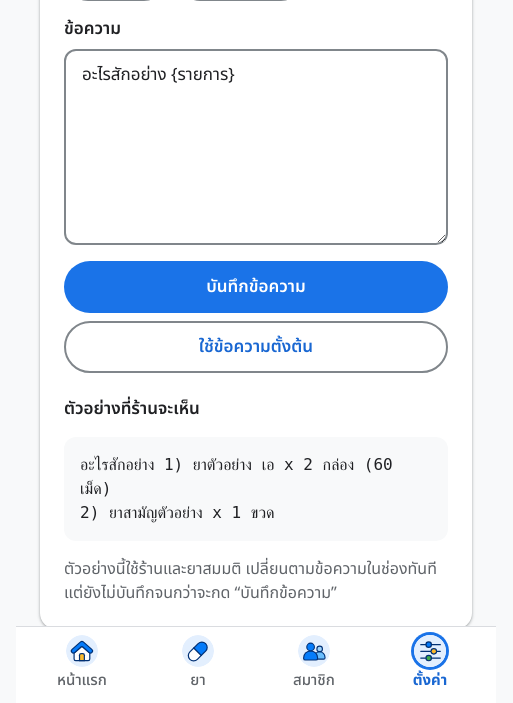
Test: order message text › "ใช้ข้อความตั้งต้น" puts the default into the box; saving it stores an empty string
The width and height of the screenshot is (513, 703).
(page scrolled)
Click the button "ใช้ข้อความตั้งต้น" at (256, 347), box [64,321,448,373]
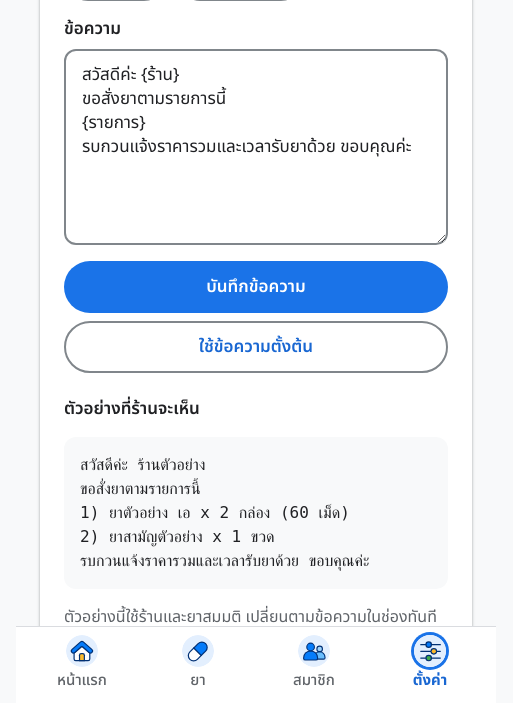
Click the button "บันทึกข้อความ" at (256, 287), box [64,261,448,313]
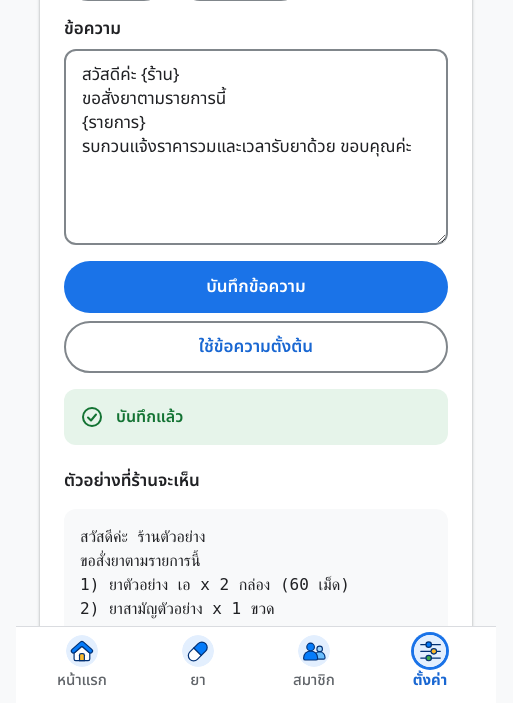
Now the text "บันทึกแล้ว" is shown, box [116,405,183,429]
